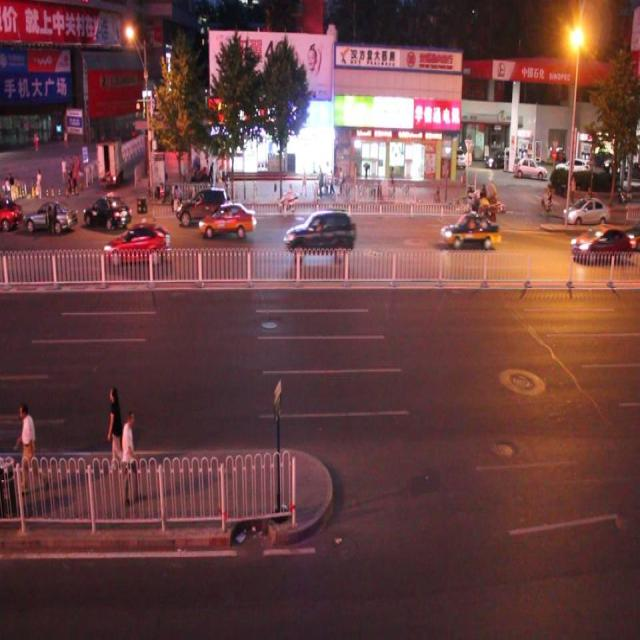car: (285, 207, 355, 262), (102, 222, 170, 264), (567, 223, 630, 264), (441, 210, 501, 252), (175, 184, 230, 228), (197, 200, 254, 240), (84, 191, 132, 233), (22, 199, 78, 234), (561, 194, 608, 226)
